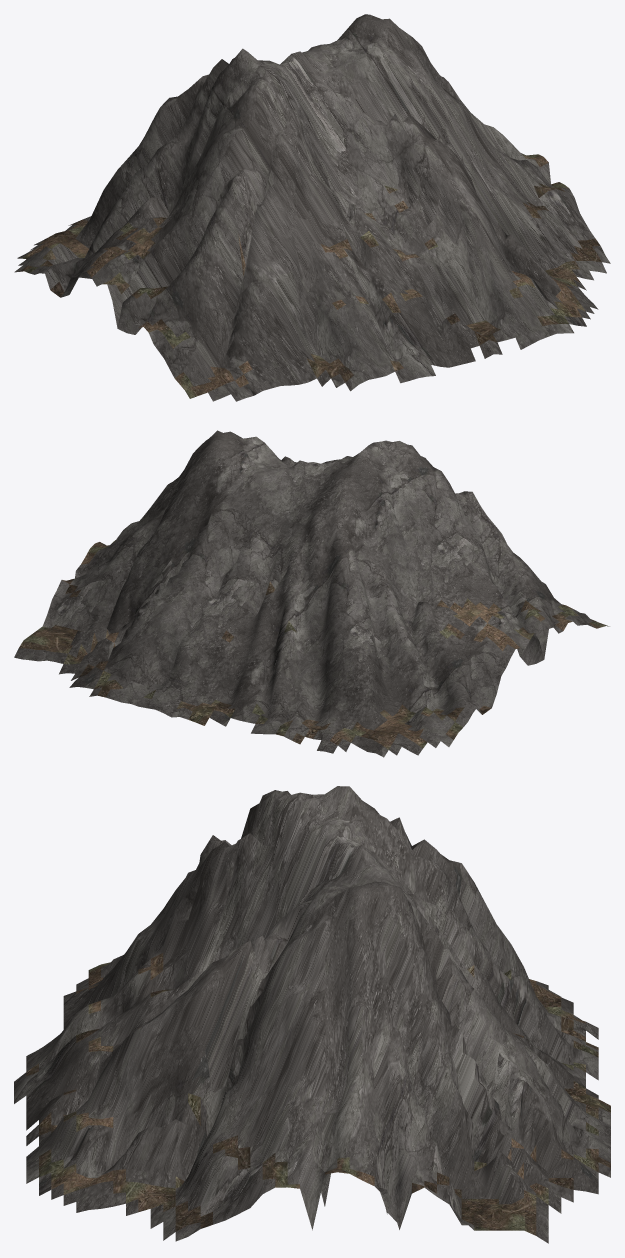
The model's file is border_peak_b_v5_autumn.glb.
3 views of the same model, one above another, from view 1: azimuth 30°, elevation 25°; view 2: azimuth 150°, elevation 25°; view 3: azimuth 270°, elevation 25° (orthographic). The views are drawn at different scales.
Visible parts, largest first — view 1: border_peak_b; view 2: border_peak_b; view 3: border_peak_b.
Part boxes in pixels (bbox=[...]): border_peak_b: bbox=[14, 14, 610, 401]; border_peak_b: bbox=[14, 430, 609, 757]; border_peak_b: bbox=[14, 786, 610, 1243].
Size of the model in its own units: 1 by 0.4988 by 0.9412.
2 materials, 2 textured.
